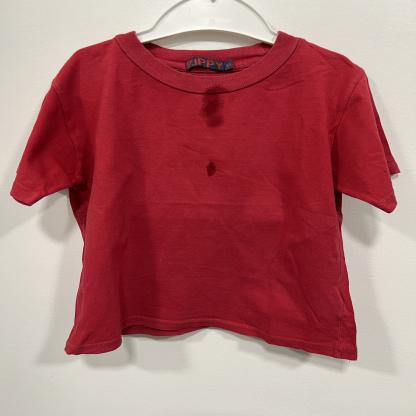stain: (196, 82, 235, 132), (203, 157, 219, 178)
